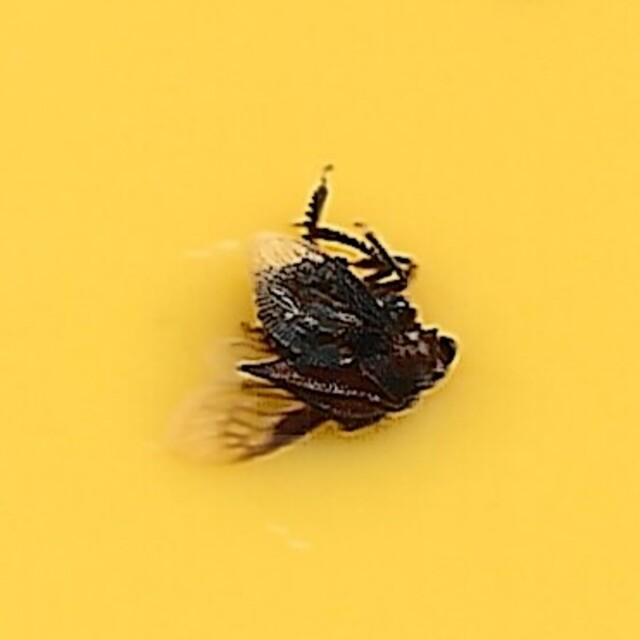Hemiptera: (173, 167, 467, 473)
